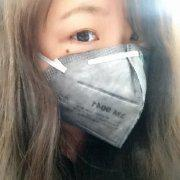OK: (32, 12, 150, 149)
